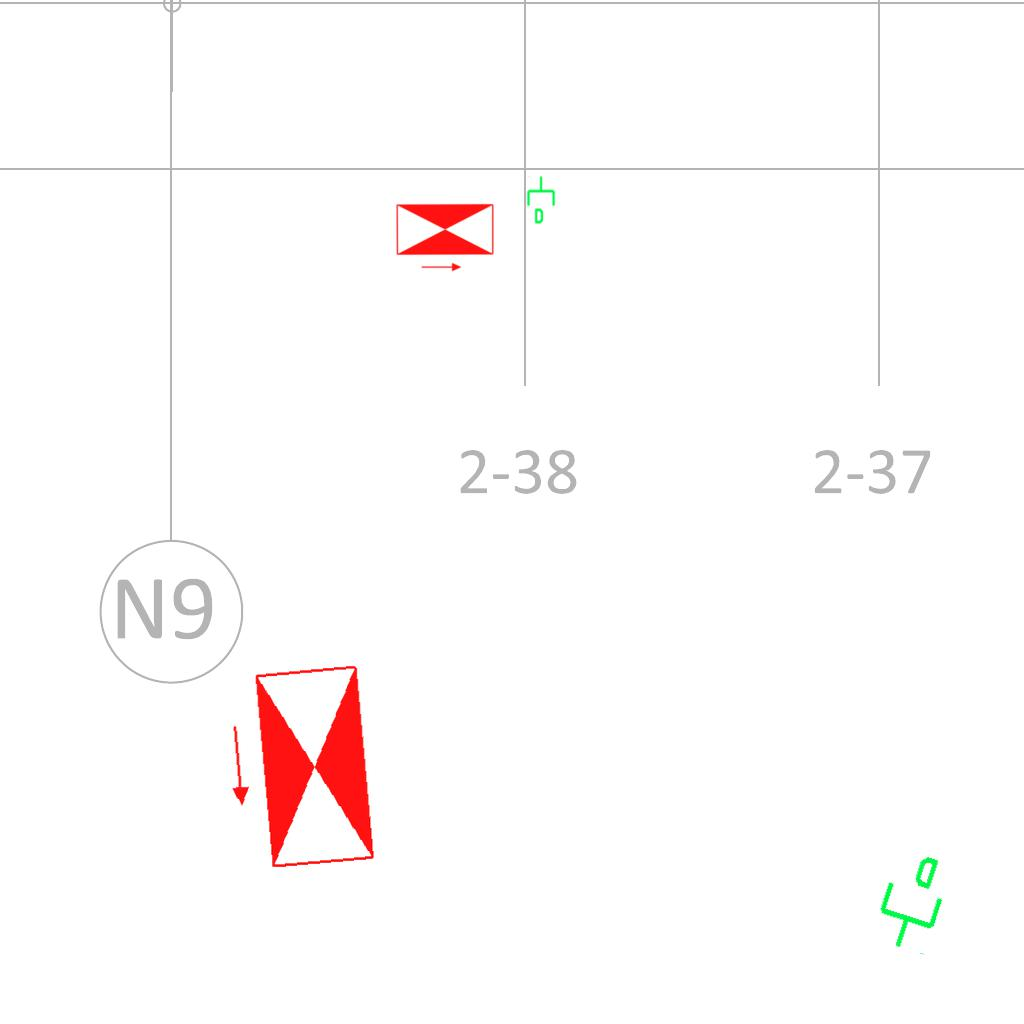Datenanschluss_einfach: (862, 842, 959, 960), (525, 175, 559, 225)
Fluchtwegpiktogramm: (216, 657, 381, 879), (393, 201, 497, 274)
